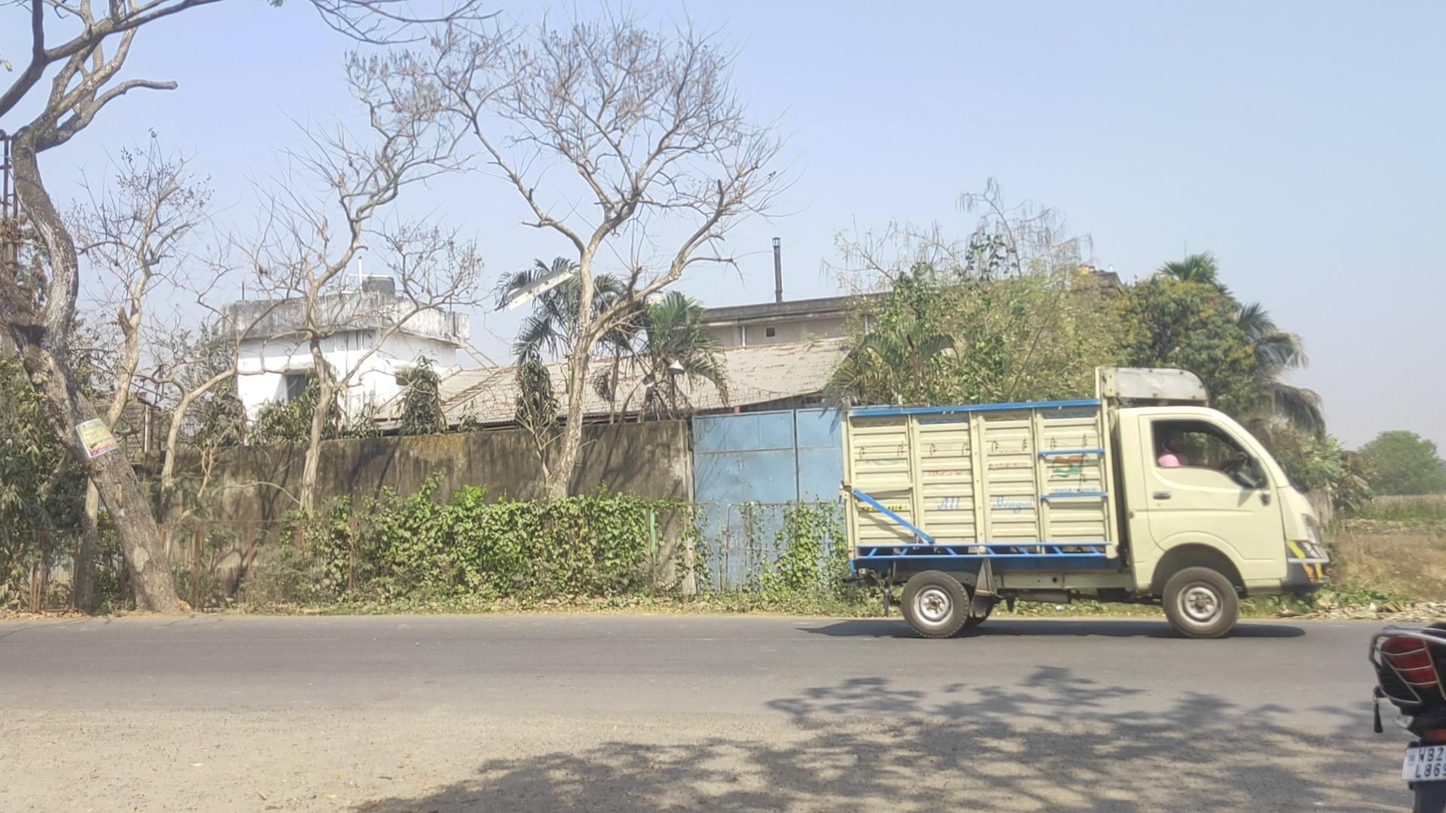van: (837, 364, 1334, 639)
